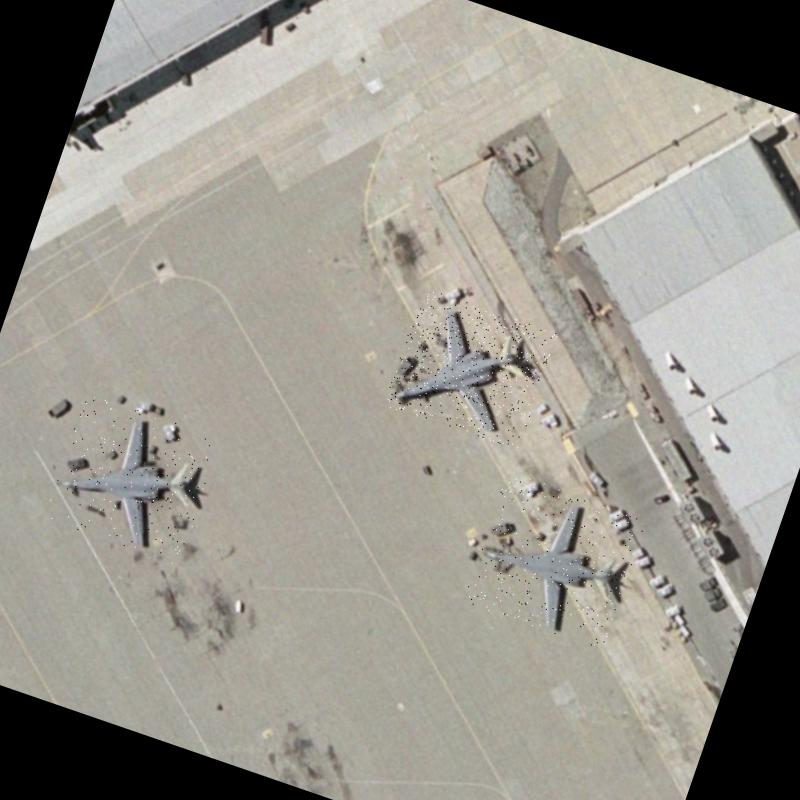A10: (462, 471, 648, 651), (42, 392, 222, 566), (383, 288, 558, 452)
